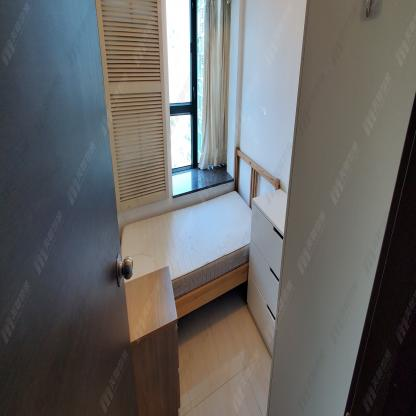Bed: (126, 145, 281, 317)
Windowsill: (165, 0, 240, 199)
